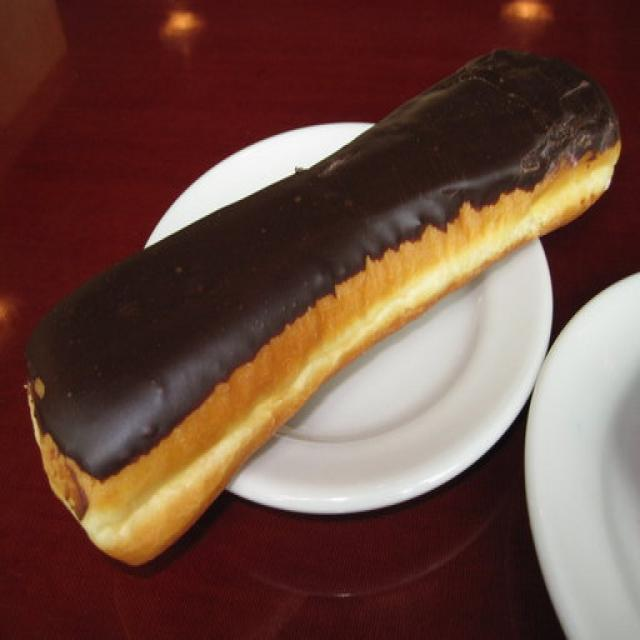Donuts: (10, 28, 631, 610)
